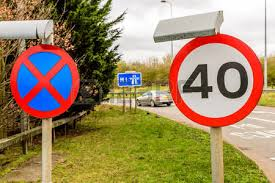Speed_limit_40km: (169, 35, 263, 128)
